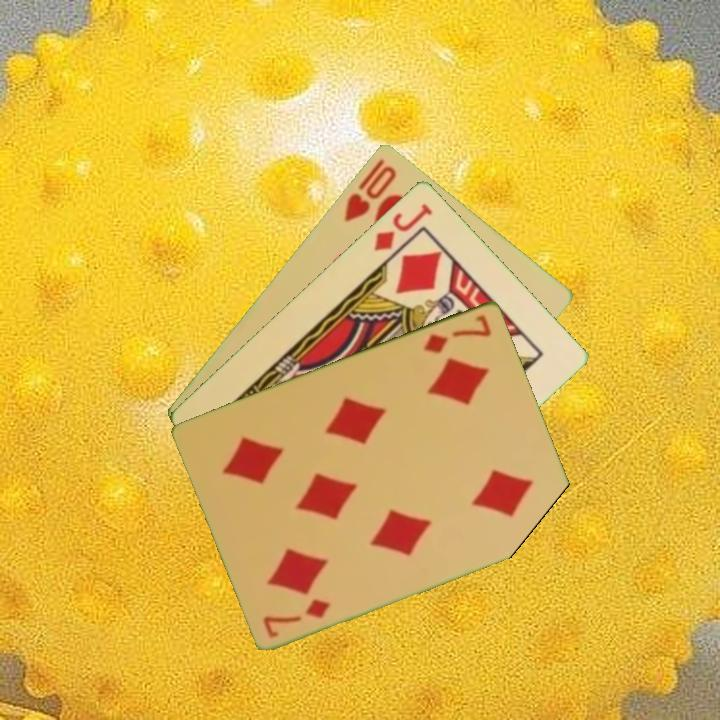10h: (340, 154, 399, 225)
7d: (419, 310, 495, 356), (260, 594, 334, 641)
Jd: (370, 199, 435, 254)
